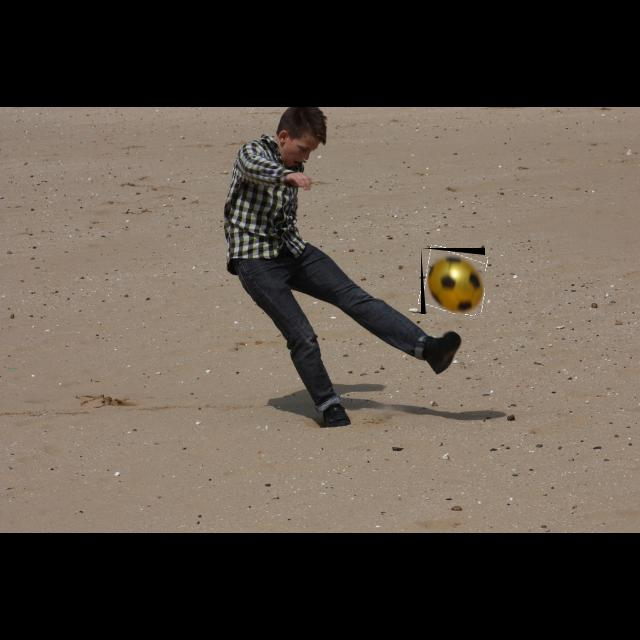Football: (421, 248, 485, 314)
